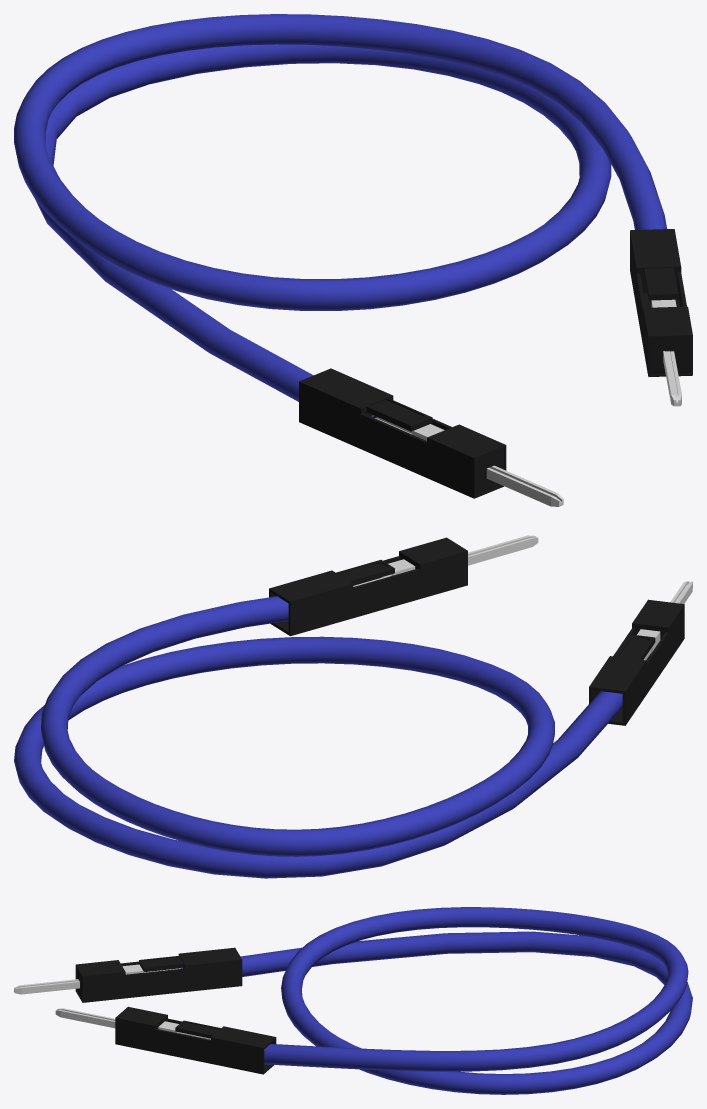
The model's file is M-M REVISII.fbx.
3 renders of one model, top to bottom at view 1: azimuth 30°, elevation 25°; view 2: azimuth 150°, elevation 25°; view 3: azimuth 270°, elevation 25°, orthographic. The views are drawn at different scales.
Visible parts, largest first — view 1: laut.002; view 2: laut.002; view 3: laut.002.
Boxes of the visible parts, left/top/right/bottom form: laut.002: left=14, top=14, right=692, bottom=506; laut.002: left=14, top=535, right=692, bottom=878; laut.002: left=14, top=907, right=692, bottom=1094.
Size of the model in its own units: 10.41 by 1.93 by 17.96.
